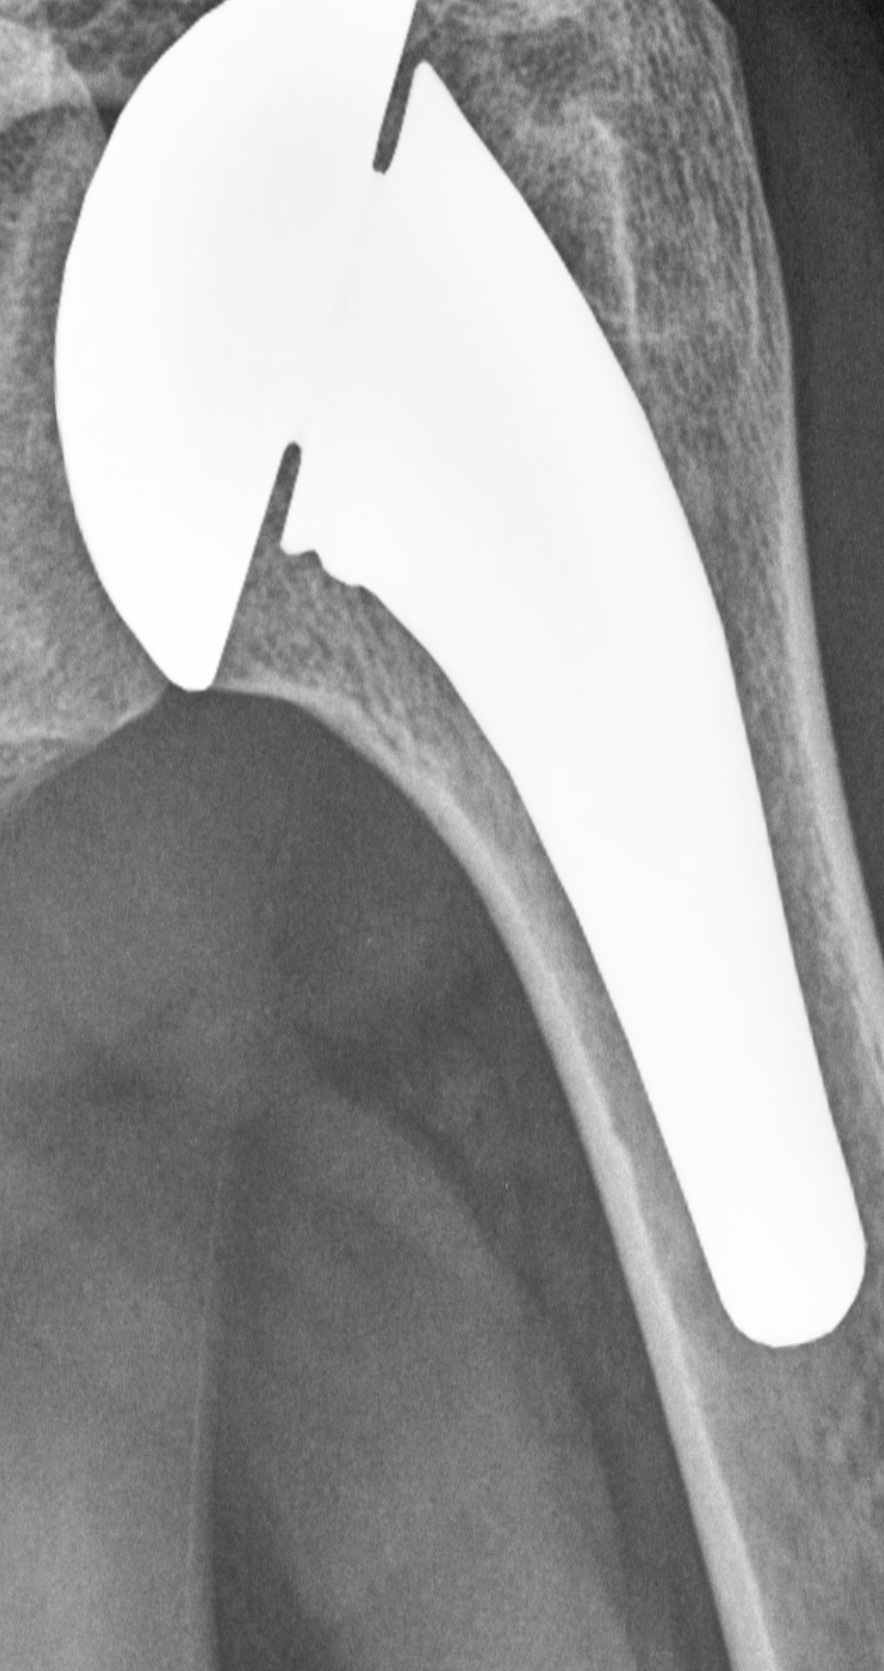Shoulder - AequalisAscendFlex - Tornier: (19, 1, 441, 711)
